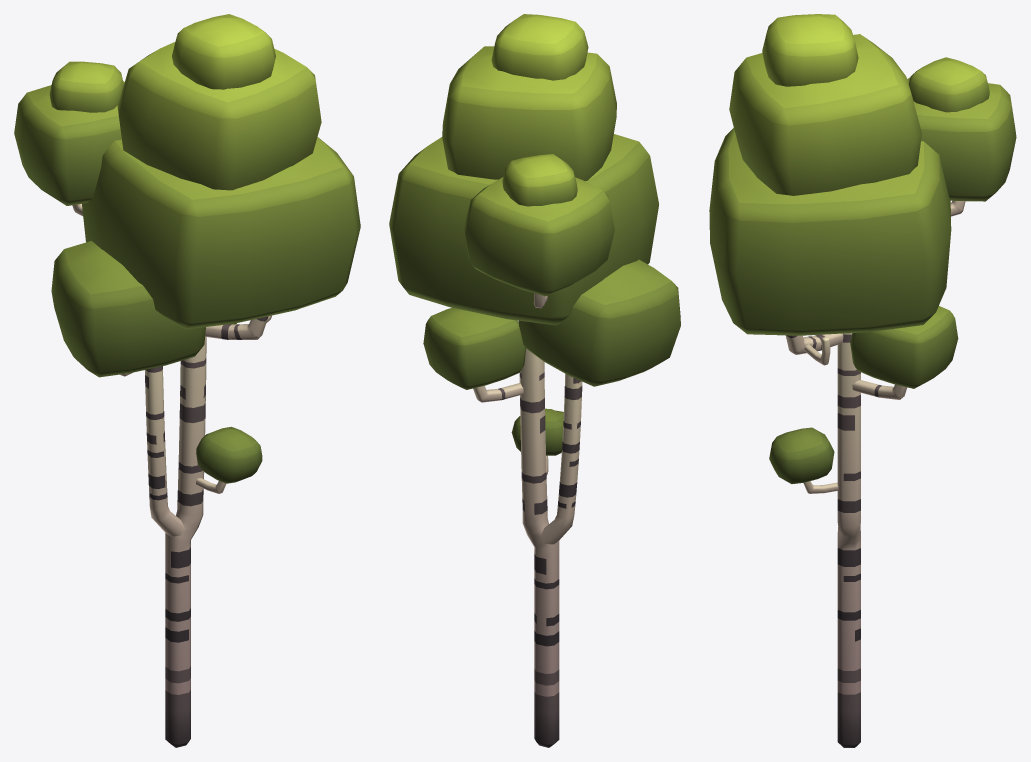
Rendered from birch_tree_col1_01.fbx.
3 views of the same model, side by side, from view 1: azimuth 30°, elevation 25°; view 2: azimuth 150°, elevation 25°; view 3: azimuth 270°, elevation 25° (orthographic). The views are drawn at different scales.
Visible parts, largest first — view 1: birch_tree_col1_01; view 2: birch_tree_col1_01; view 3: birch_tree_col1_01.
Boxes of the visible parts, bbox=[...] form: birch_tree_col1_01: bbox=[14, 14, 360, 747]; birch_tree_col1_01: bbox=[389, 14, 680, 747]; birch_tree_col1_01: bbox=[709, 14, 1016, 747].
Size of the model in its own units: 477 by 1300 by 492.
Materials: 1 (1 with a texture image).
